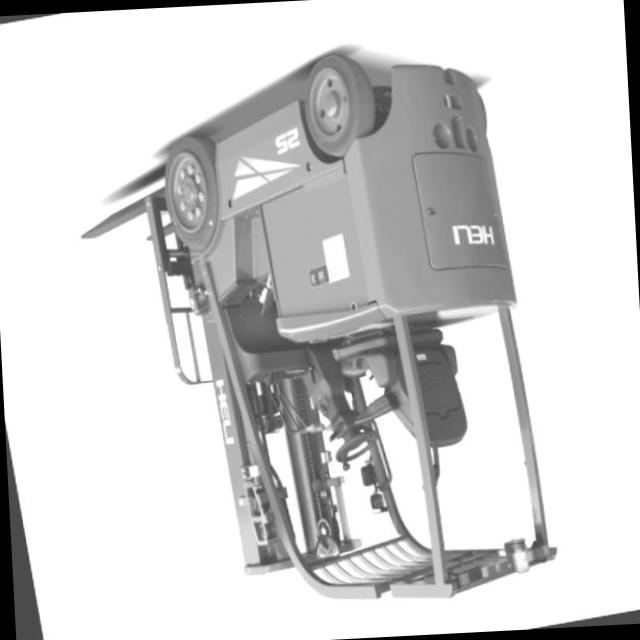forklift: (110, 5, 587, 640)
